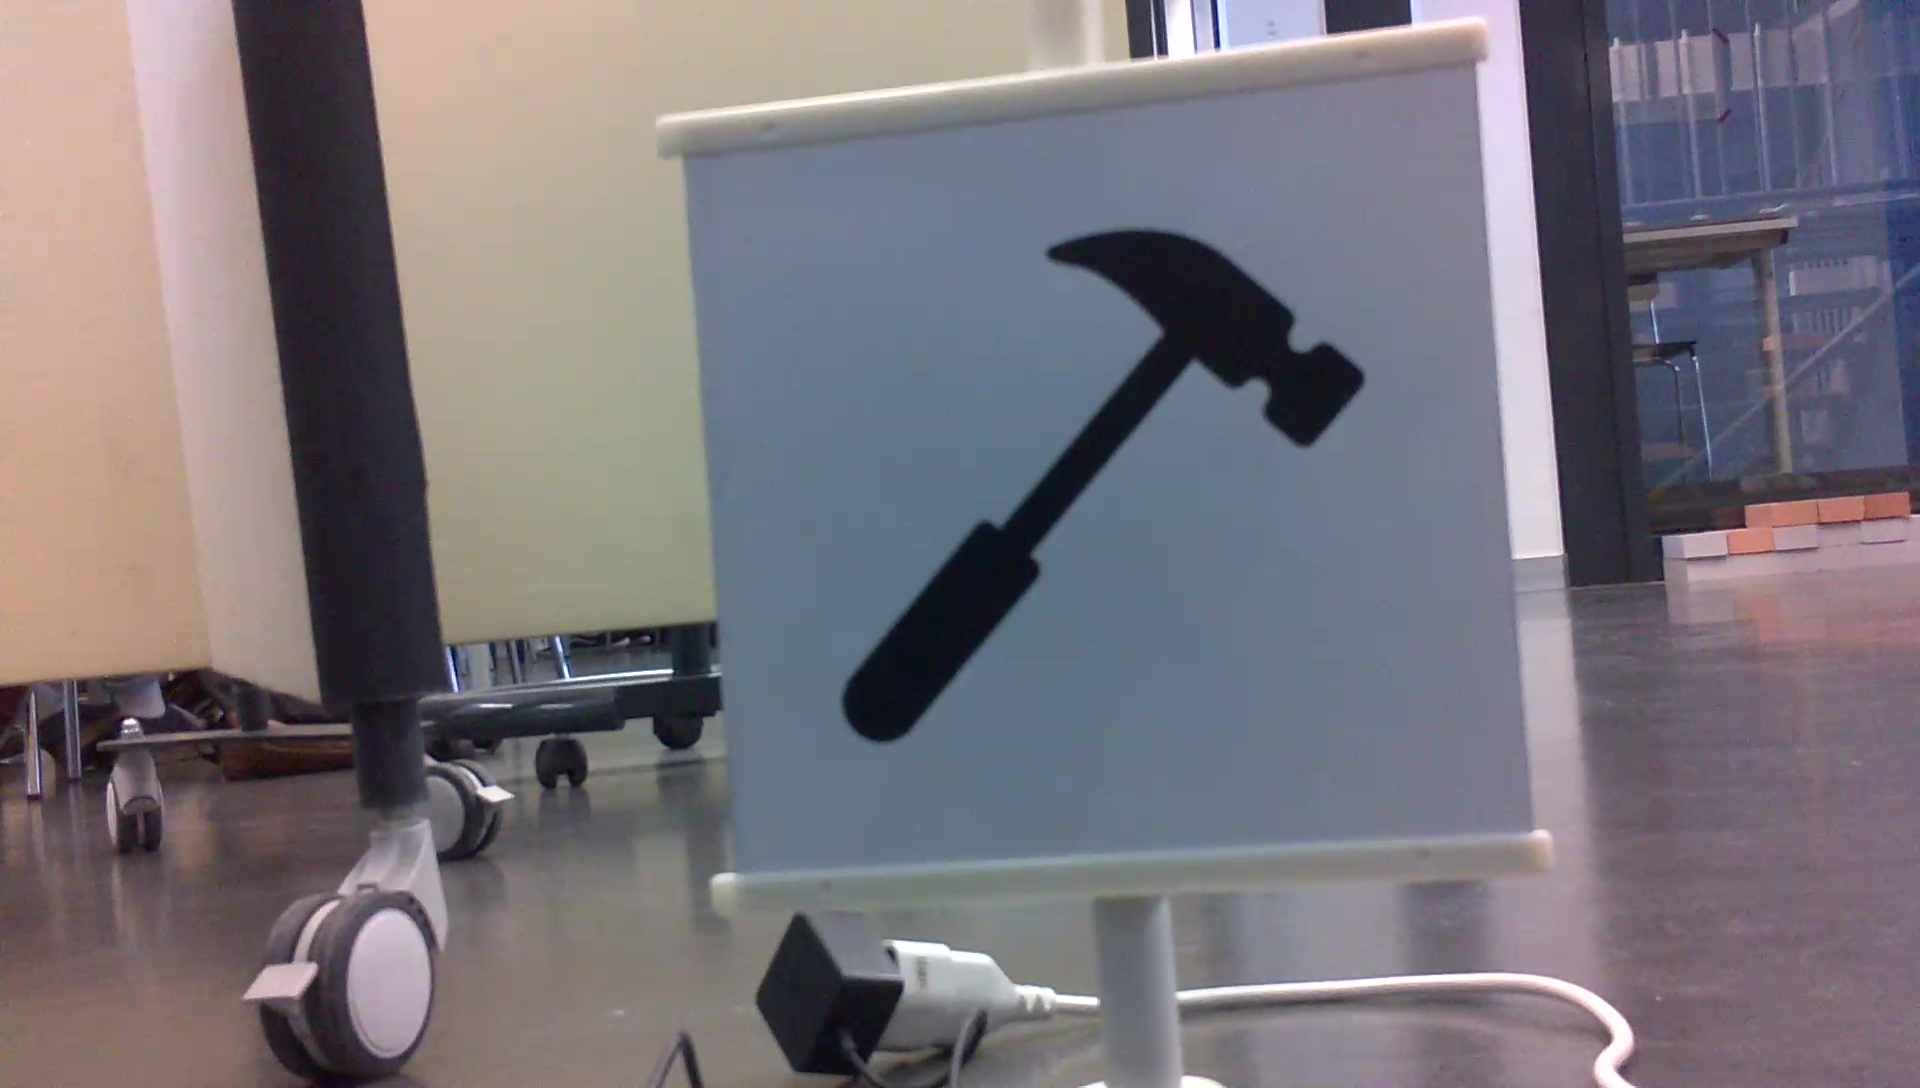hammer: (828, 212, 1375, 750)
